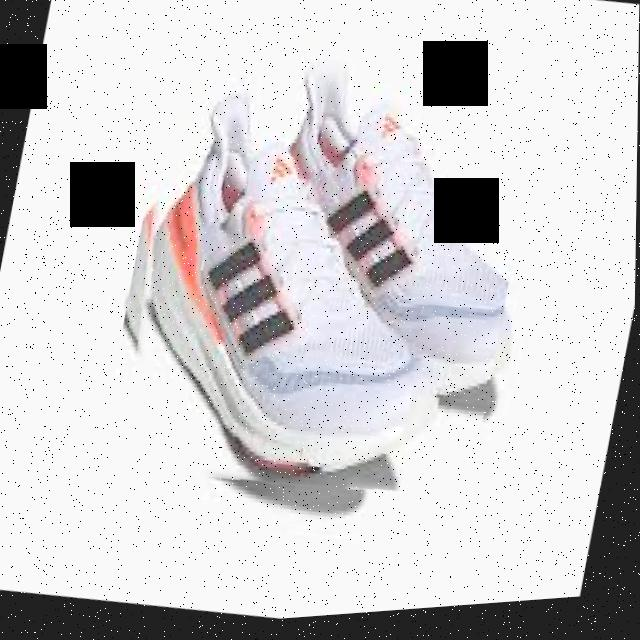shoe: (93, 24, 547, 535), (96, 72, 468, 528)
